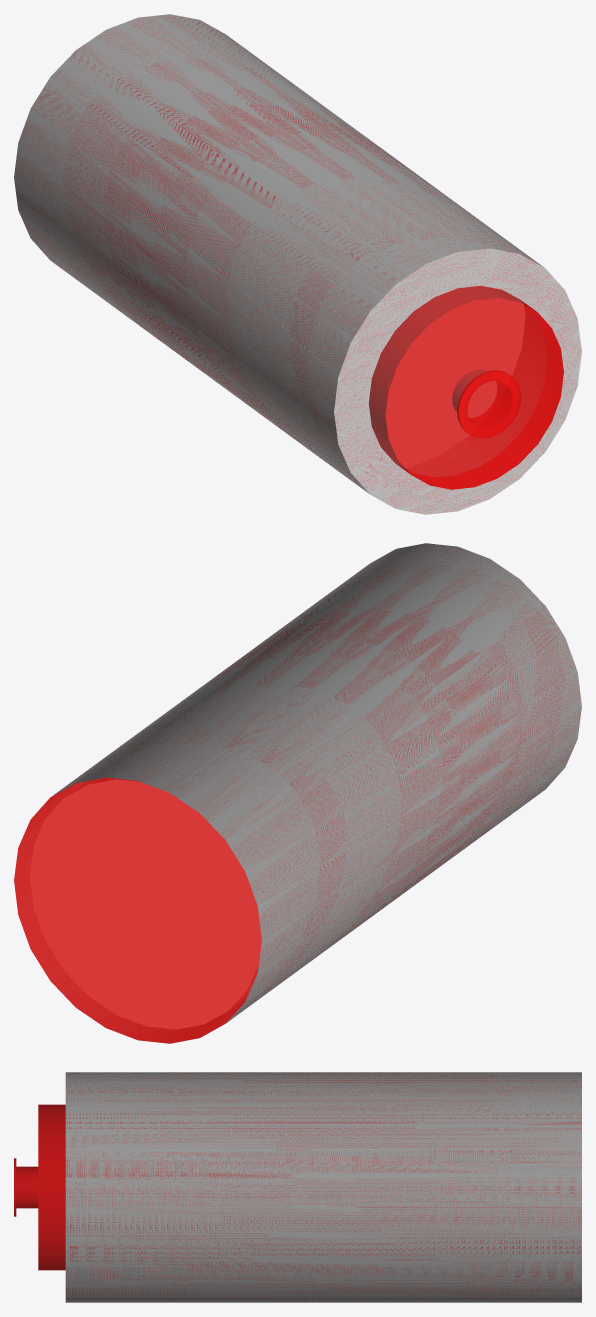
File: model_align.obj
The picture shows the model from 3 angles, top to bottom: view 1: azimuth 30°, elevation 25°; view 2: azimuth 150°, elevation 25°; view 3: azimuth 270°, elevation 25°; orthographic projection. The views are drawn at different scales.
Visible parts, largest first — view 1: mesh1_mesh1-geometry, mesh2_mesh2-geometry, mesh3_mesh3-geometry; view 2: mesh1_mesh1-geometry, mesh3_mesh3-geometry; view 3: mesh1_mesh1-geometry, mesh2_mesh2-geometry.
Part boxes in pixels (<box>): mesh1_mesh1-geometry: <box>14,14,581,514</box>; mesh2_mesh2-geometry: <box>368,286,563,489</box>; mesh3_mesh3-geometry: <box>369,286,525,467</box>; mesh1_mesh1-geometry: <box>14,543,581,1043</box>; mesh3_mesh3-geometry: <box>30,778,261,1029</box>; mesh1_mesh1-geometry: <box>65,1072,581,1302</box>; mesh2_mesh2-geometry: <box>14,1104,65,1270</box>.
Bounding box in the file's own units: 0.0946 × 0.0946 × 0.2325.
